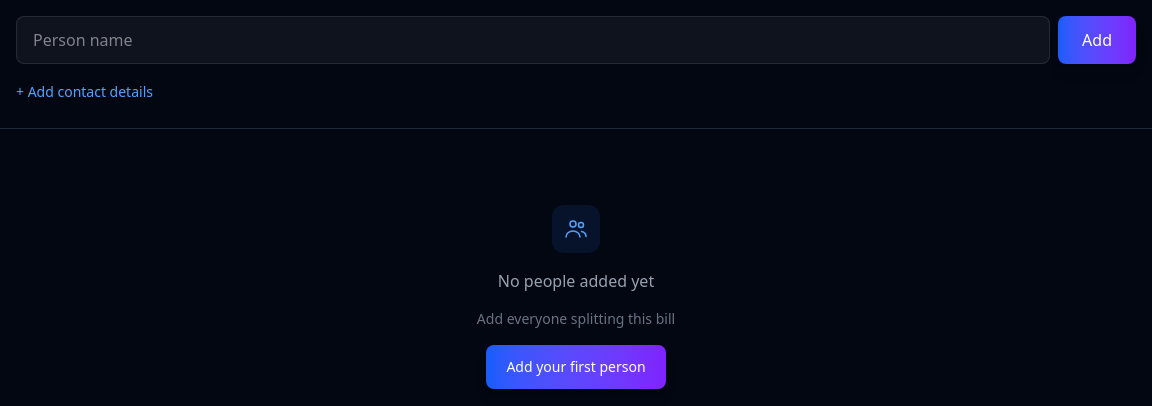
it: PeoplePanel › adds a person when name is entered and Add is clicked
Type "Alice" into the field with placeholder "Person name" at (533,40), box [16,16,1050,64]
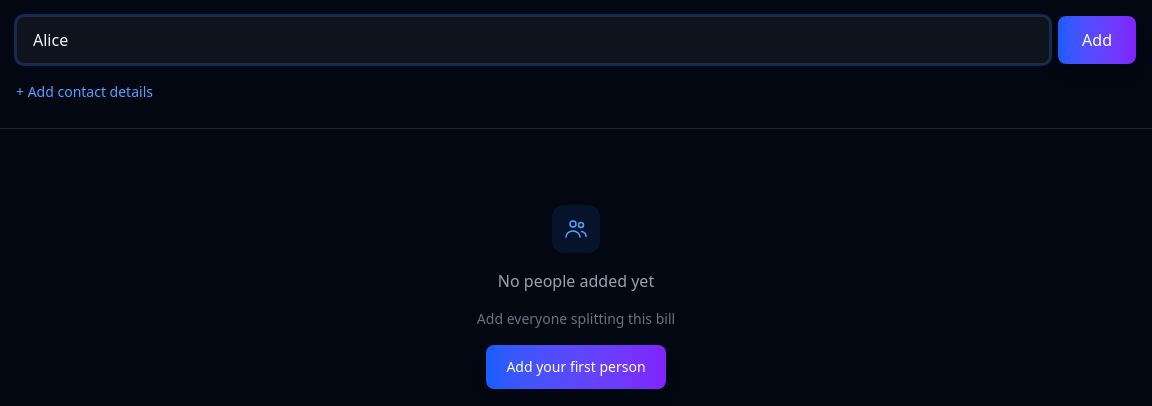
Click the button "Add" at (1097,40), box [1058,16,1136,64]
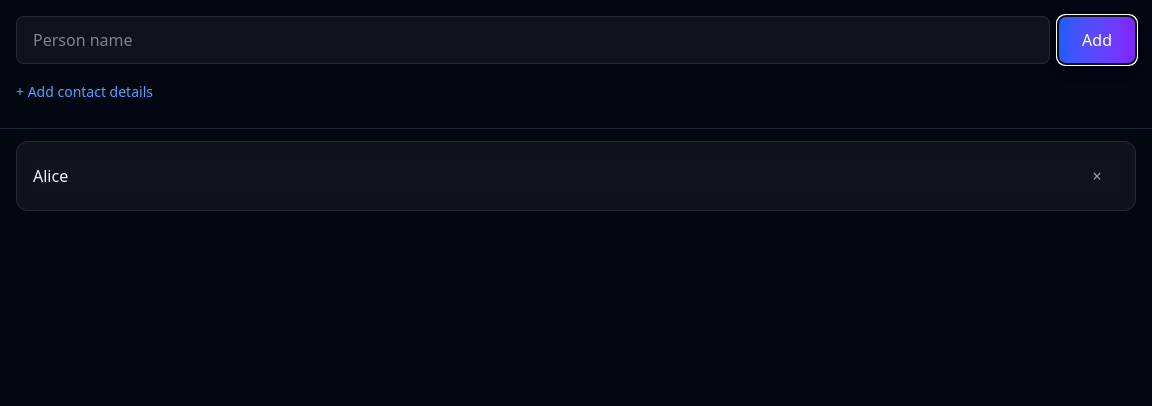
Now the text "Alice" is shown, box [33,165,68,187]
